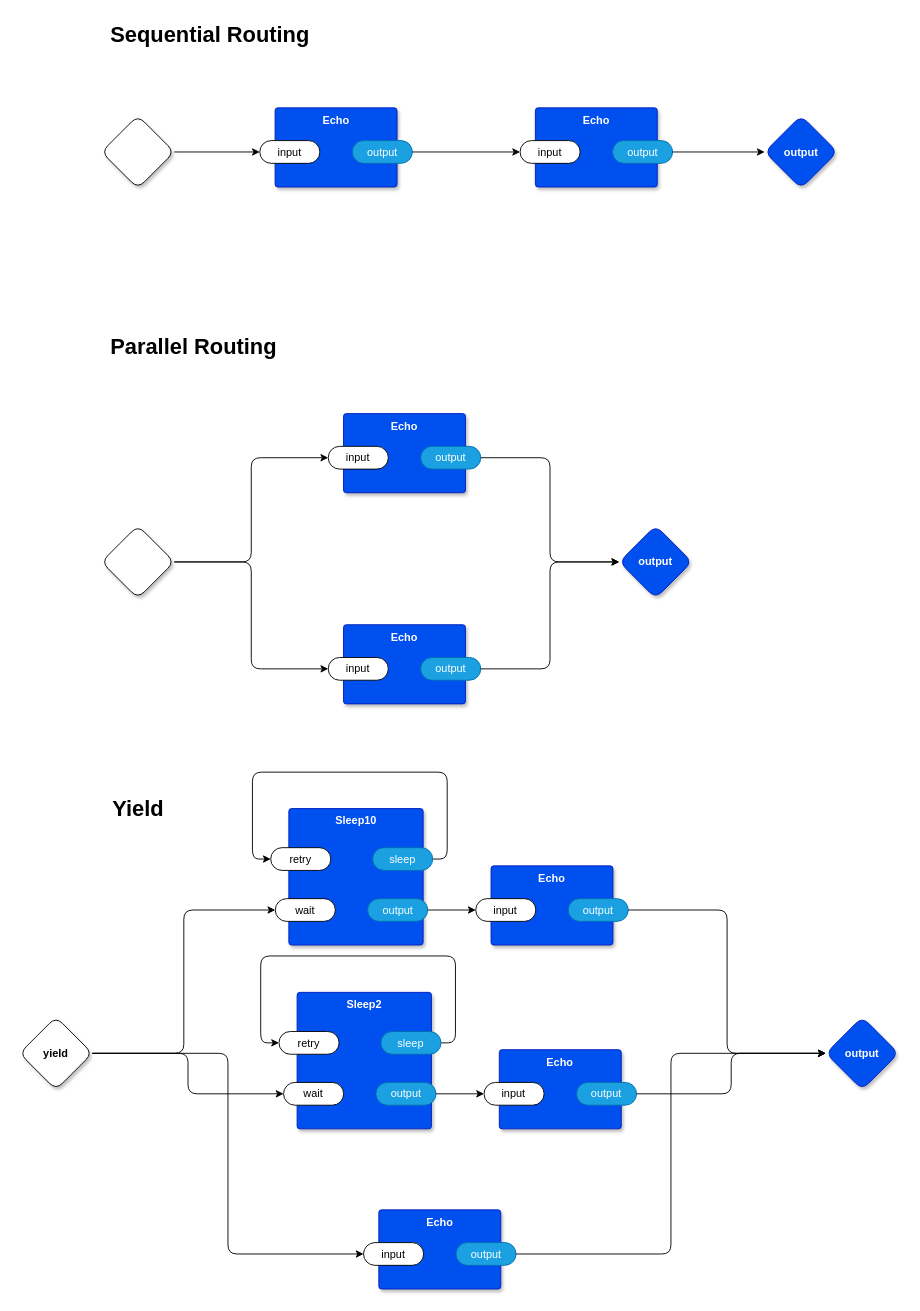
The diagram is 920 pixels wide and 1311 high, and some of its shapes have lost their labels. Each missing label, with the centre of its shape:
"par" goes at (138,563).
"seq" goes at (138,153).
